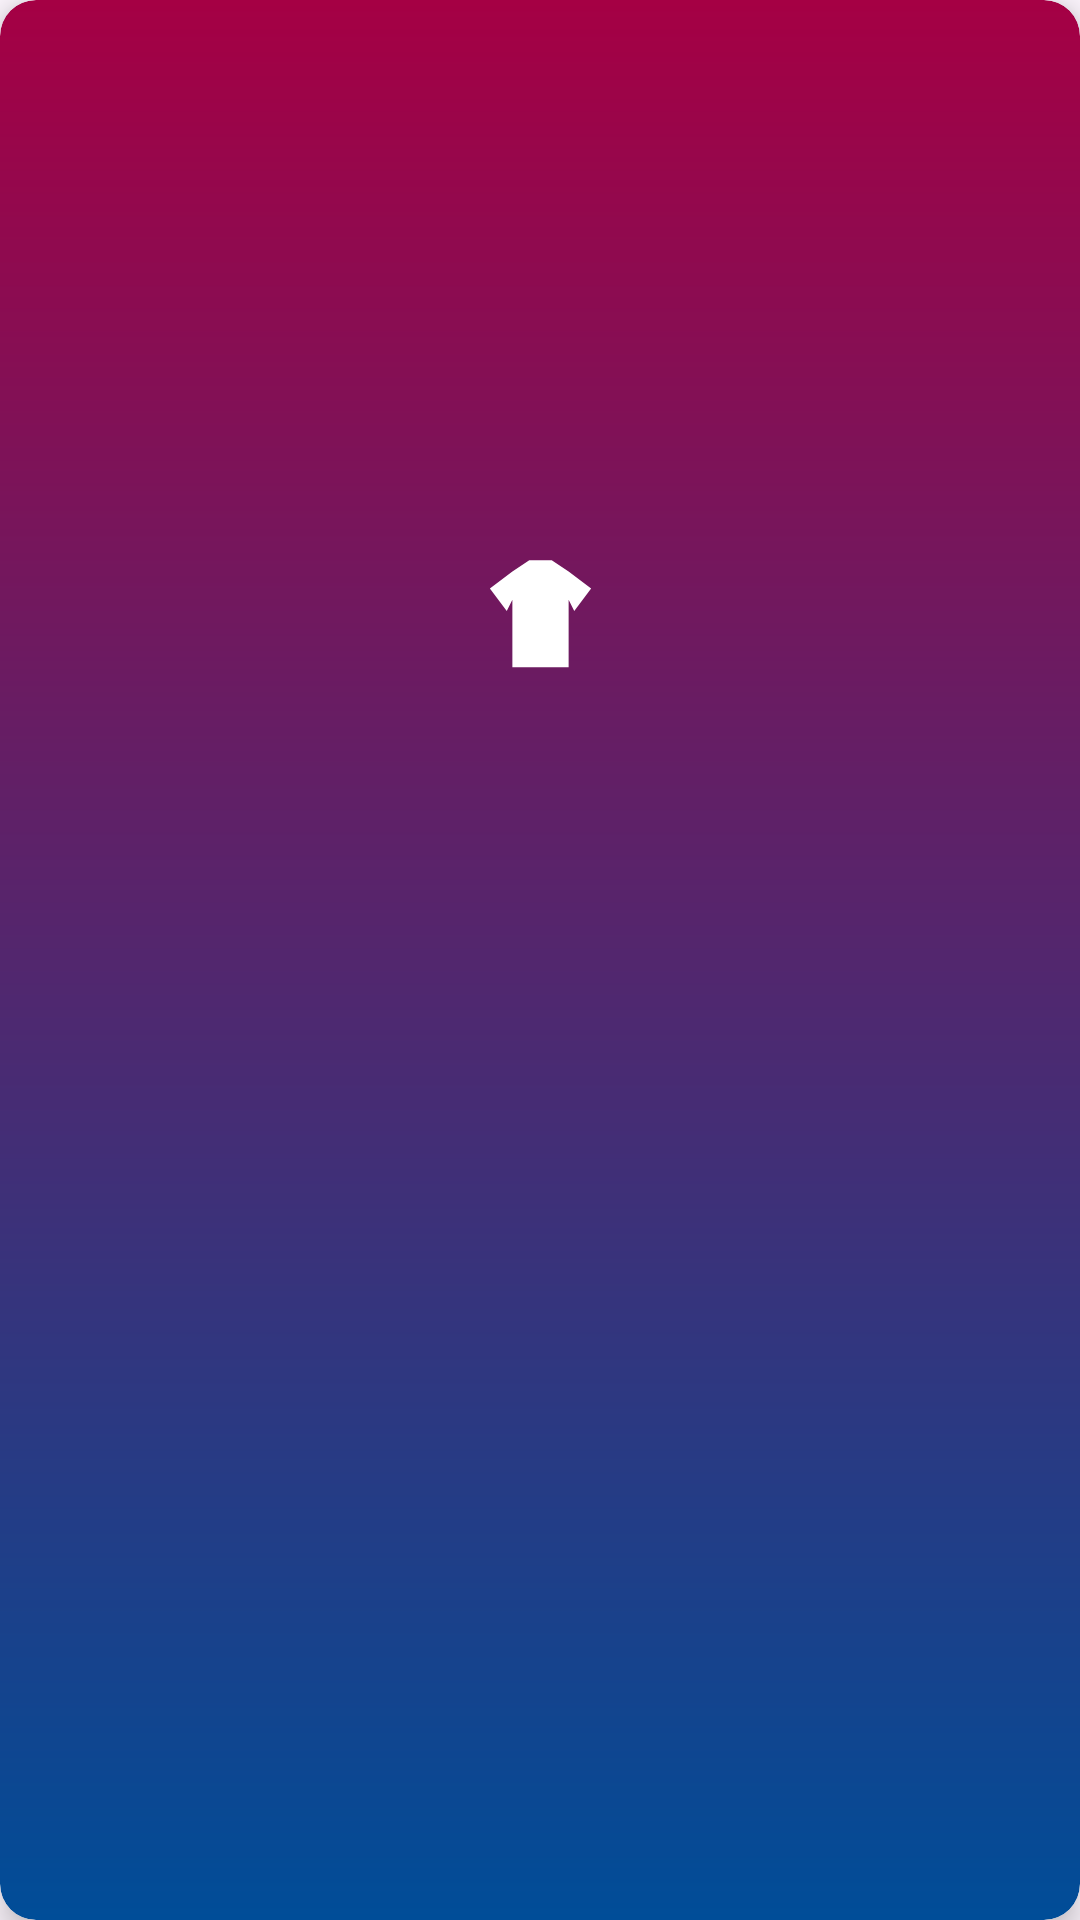

Locate icon controls on the screen. Image size 1080*1920, boxes as (x1, y1, x2, y2).
camiseta: (490, 560, 591, 668)
